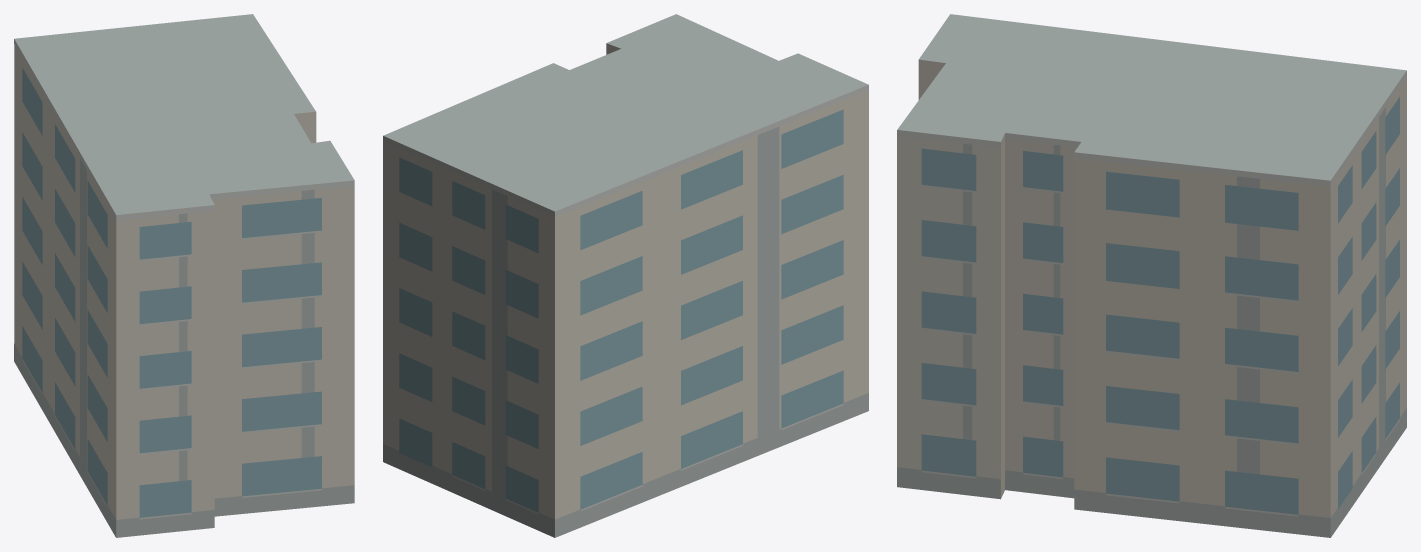
File: survey-upis-32986310.glb
3 renders of one model, left to right at view 1: azimuth 30°, elevation 25°; view 2: azimuth 150°, elevation 25°; view 3: azimuth 270°, elevation 25°, orthographic. The views are drawn at different scales.
Visible parts, largest first — view 1: survey-upis-32986310.tmp; view 2: survey-upis-32986310.tmp; view 3: survey-upis-32986310.tmp.
Boxes of the visible parts, bbox=[...] form: survey-upis-32986310.tmp: bbox=[14, 14, 354, 537]; survey-upis-32986310.tmp: bbox=[383, 14, 868, 537]; survey-upis-32986310.tmp: bbox=[897, 14, 1406, 537].
Size of the model in its own units: 14.39 by 14.37 by 18.59.
